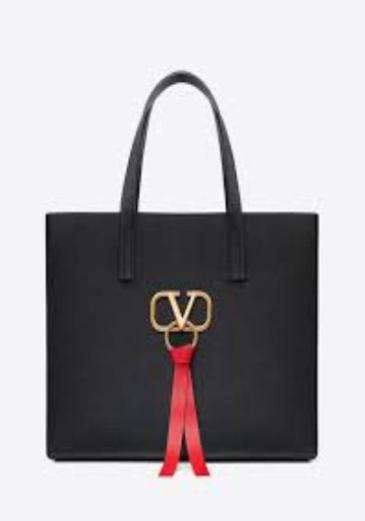VALENTINO: (146, 283, 238, 338)
